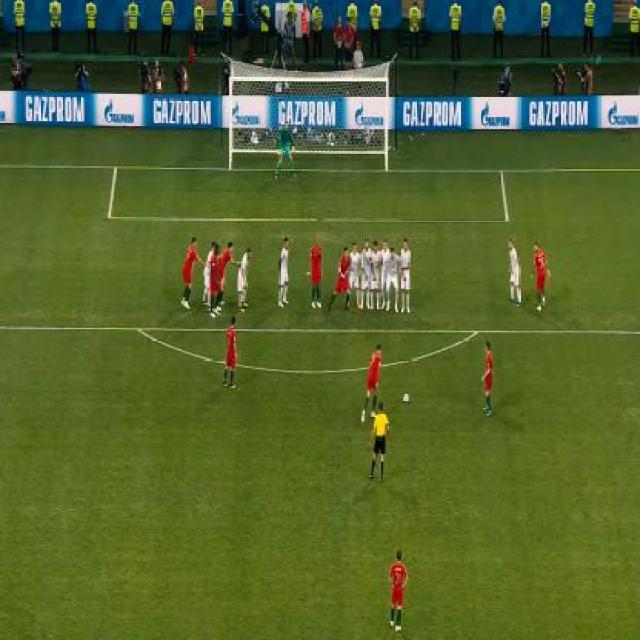ball: (402, 390, 411, 404)
player: (209, 238, 234, 320), (386, 546, 409, 634), (360, 342, 385, 421), (369, 400, 392, 485), (272, 113, 300, 182), (179, 236, 204, 313), (531, 239, 553, 313), (329, 246, 352, 315), (505, 233, 524, 313), (479, 339, 496, 416), (223, 315, 240, 391), (205, 238, 222, 314), (277, 235, 293, 311), (236, 246, 253, 312), (399, 237, 413, 316), (385, 247, 401, 313), (310, 235, 323, 311), (378, 239, 391, 313), (348, 243, 361, 312), (361, 238, 372, 314), (370, 239, 381, 310)
